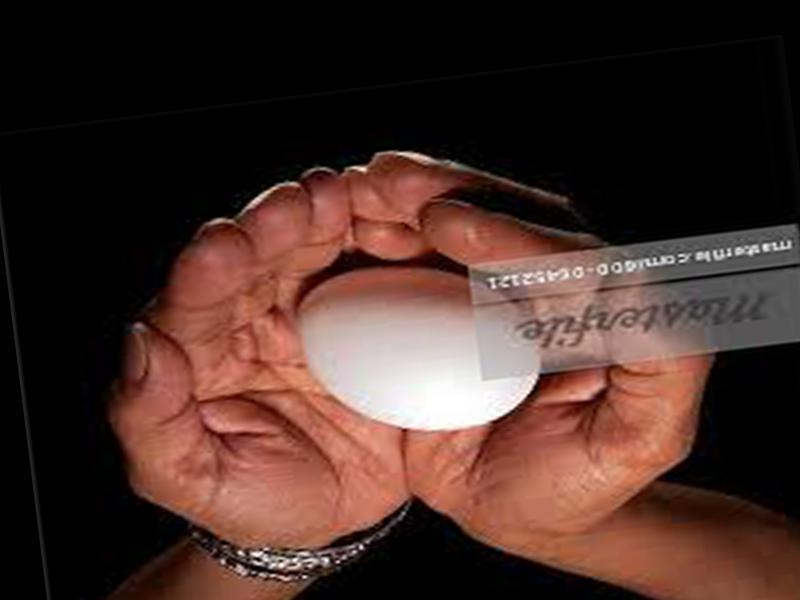Eggs: (289, 246, 547, 447)
